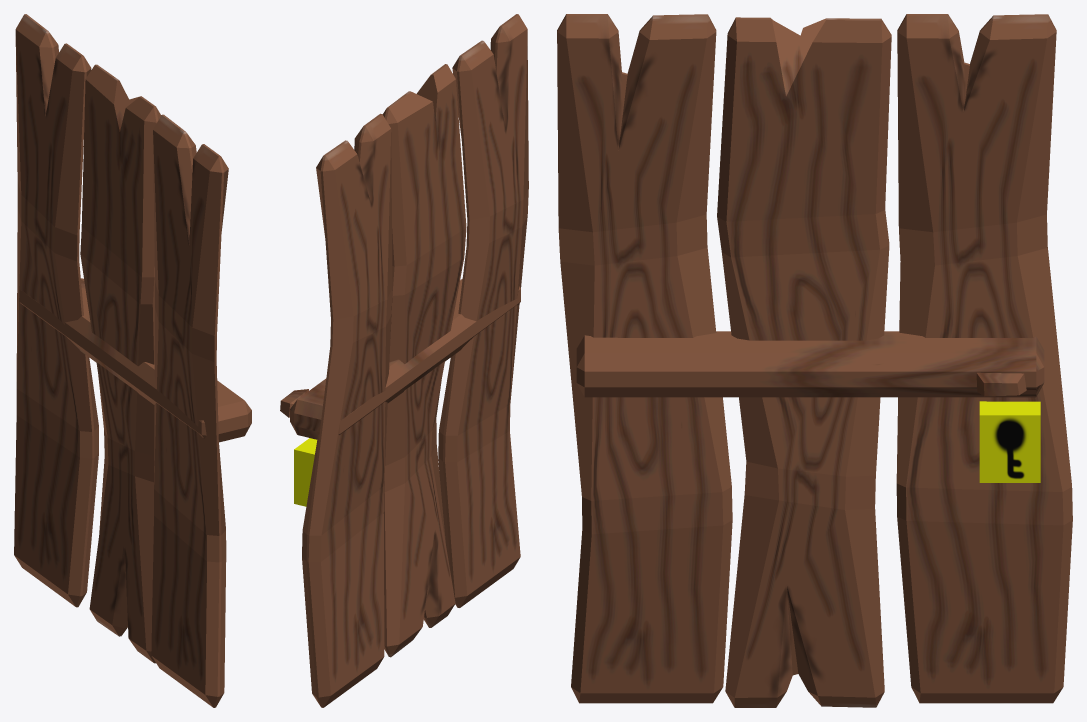
File: door.glb
3 renders of one model, left to right at view 1: azimuth 30°, elevation 25°; view 2: azimuth 150°, elevation 25°; view 3: azimuth 270°, elevation 25°, orthographic. The views are drawn at different scales.
Parts seen in each view (by area): view 1: Plane.001; view 2: Plane.001; view 3: Plane.001.
Part boxes in pixels (x1=…): Plane.001: x1=14, y1=14, x2=251, y2=707; Plane.001: x1=280, y1=14, x2=528, y2=707; Plane.001: x1=557, y1=14, x2=1072, y2=707.
Size of the model in its own units: 0.5452 by 3.97 by 2.69.
Materials: 2 (2 with a texture image).
